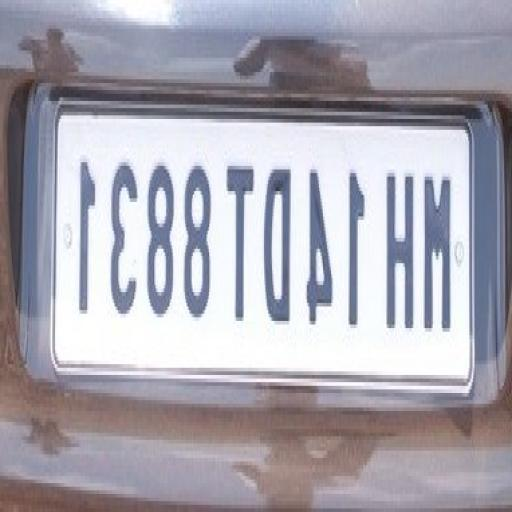License: (40, 75, 485, 407)
